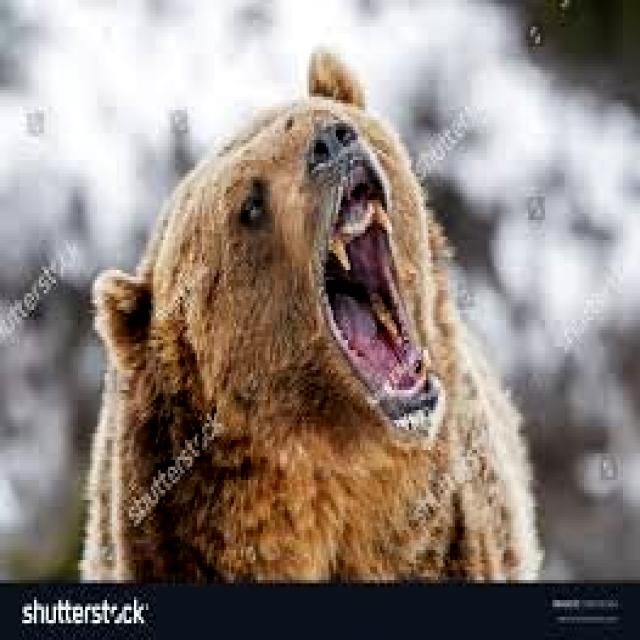bear: (89, 59, 495, 640)
